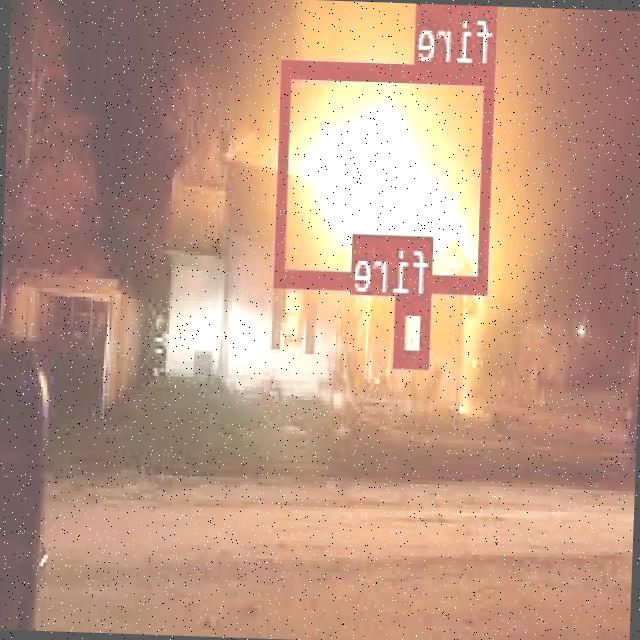fire: (277, 59, 497, 291), (396, 294, 433, 366)
